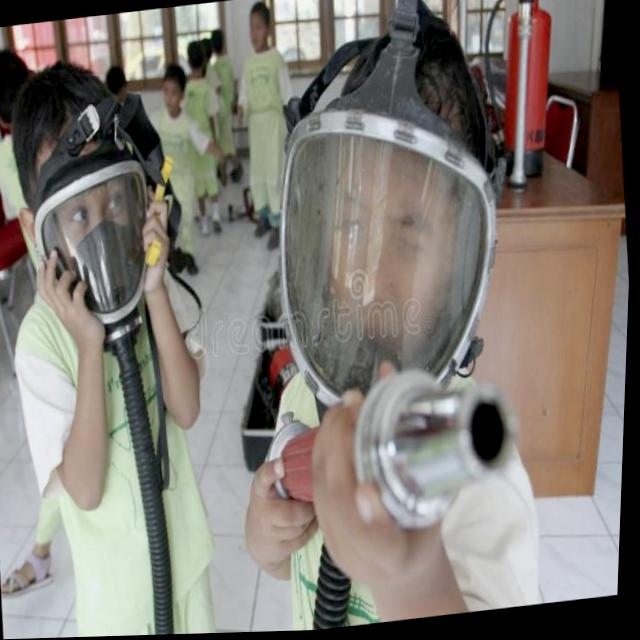FireExtinguisher: (458, 0, 581, 205)
